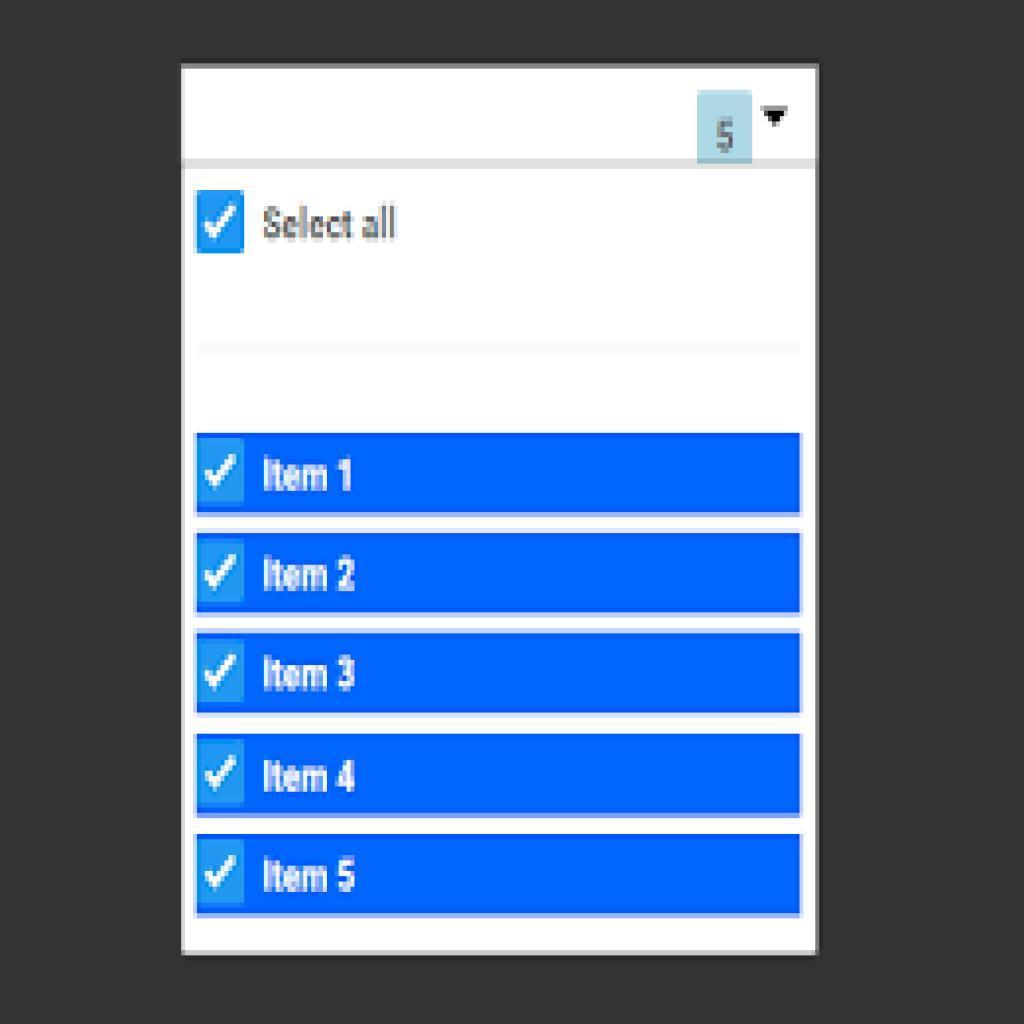checkbox: (197, 536, 250, 611), (197, 434, 247, 510), (201, 633, 249, 708), (198, 738, 247, 811), (198, 837, 247, 905), (197, 193, 247, 253)
dropdown: (185, 70, 818, 163)
label: (262, 205, 404, 250), (257, 555, 380, 603), (254, 454, 369, 504), (254, 751, 358, 802), (260, 852, 361, 903), (260, 649, 363, 697)
